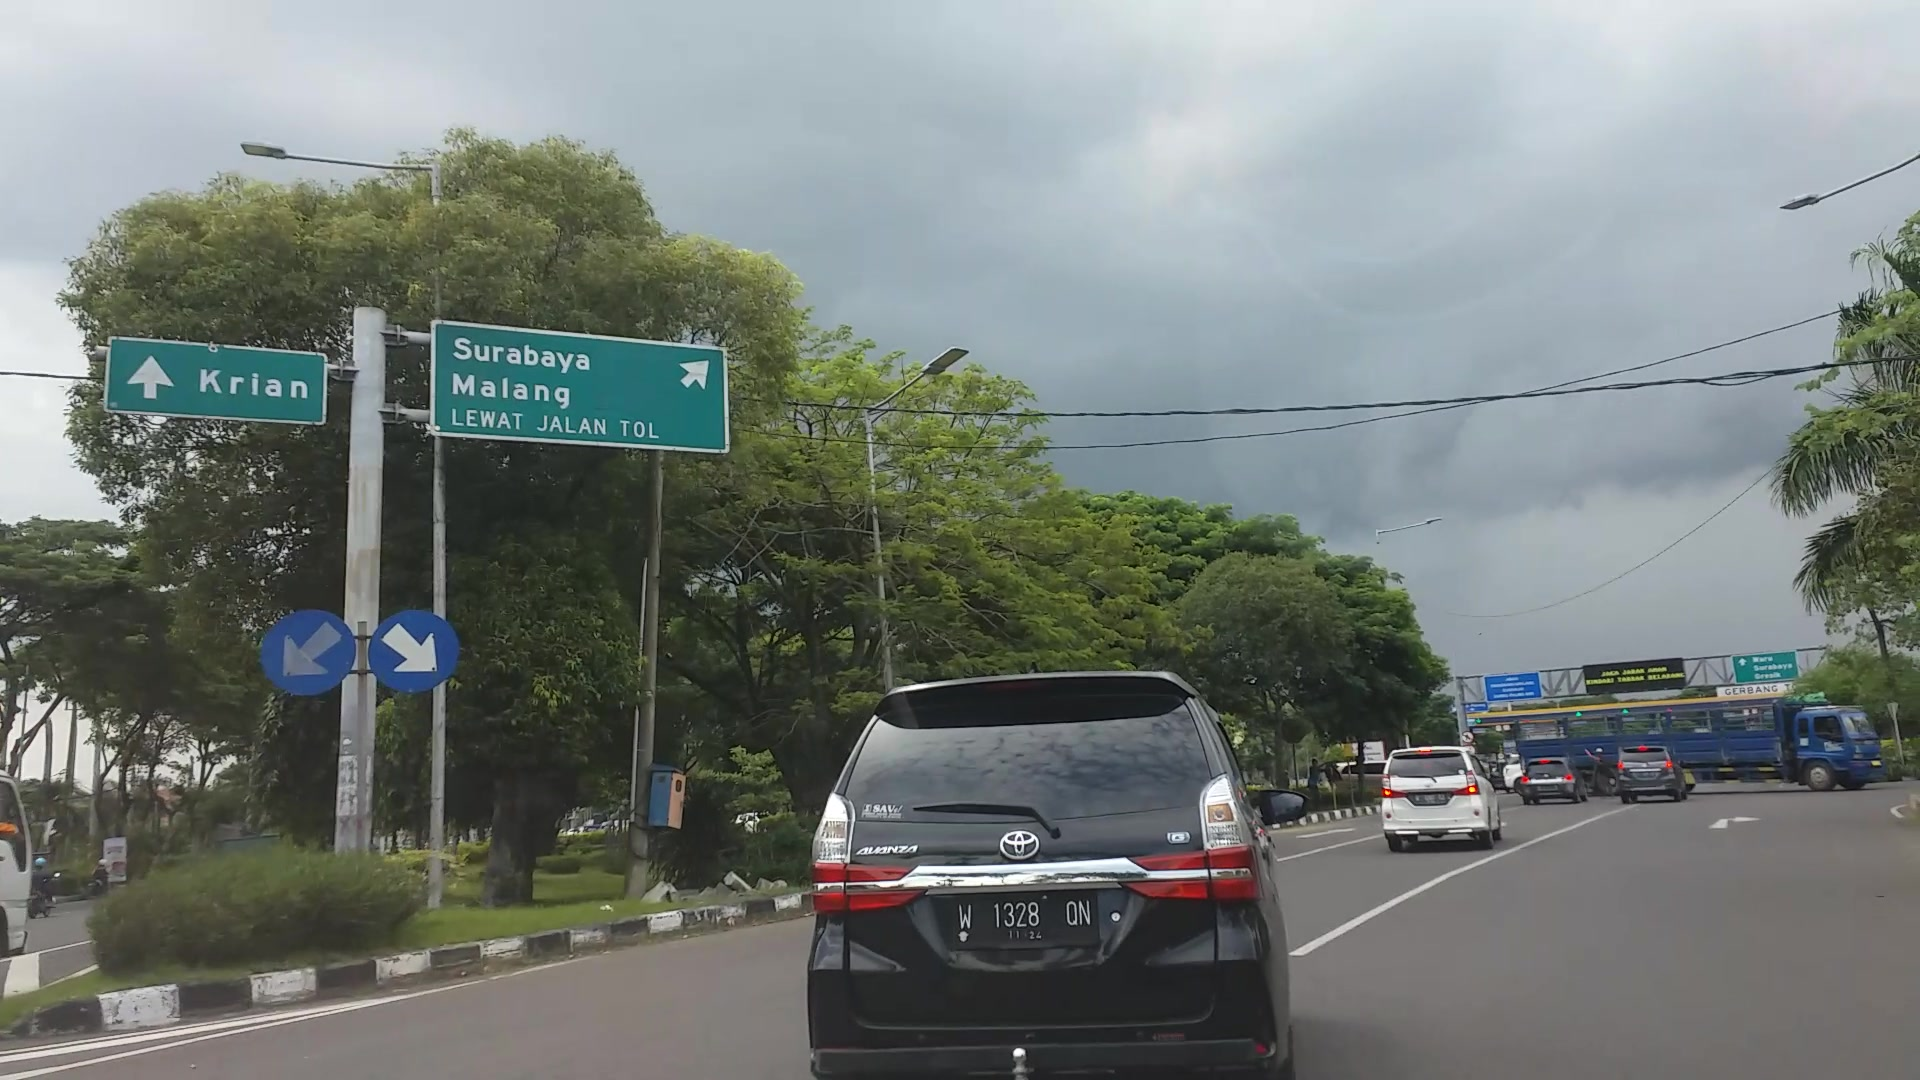plate_positive: (952, 895, 1098, 948)
